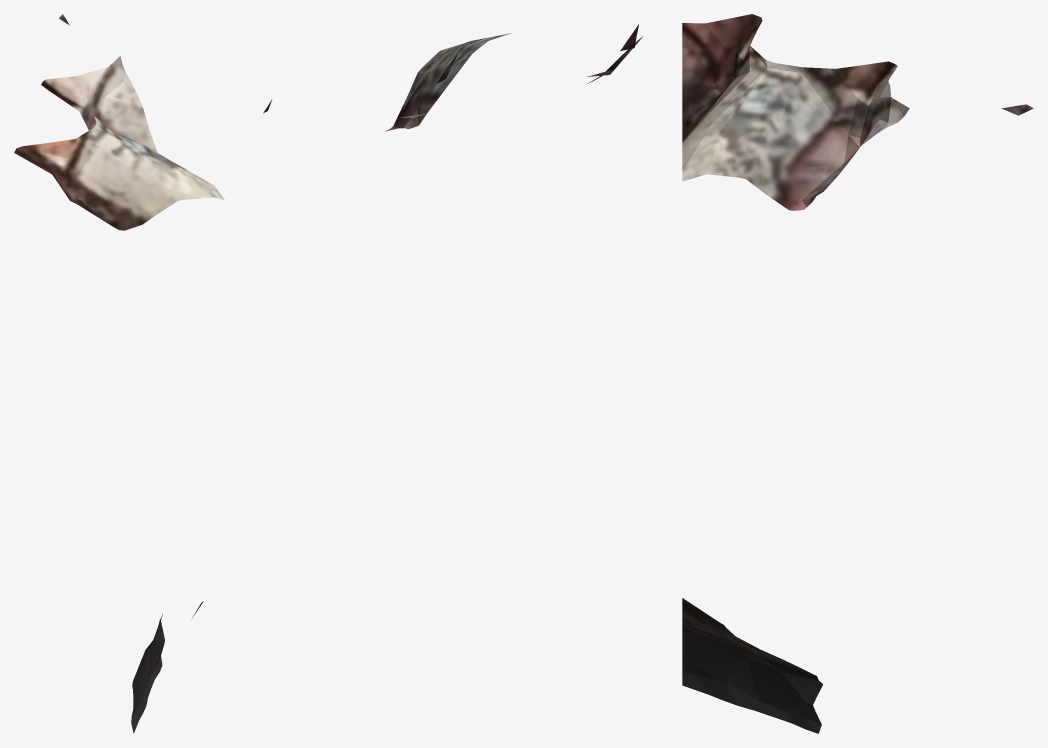
3 views of the same model, side by side, from view 1: azimuth 30°, elevation 25°; view 2: azimuth 150°, elevation 25°; view 3: azimuth 270°, elevation 25° (orthographic). The views are drawn at different scales.
Bounding box in the file's own units: 0.2711 × 0.8374 × 0.4265.
Materials: 1 (1 with a texture image).
